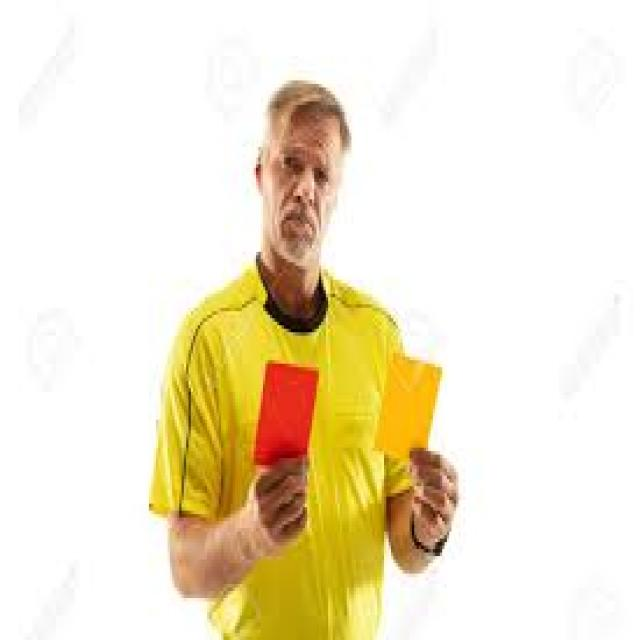yellow-card: (372, 345, 461, 562)
